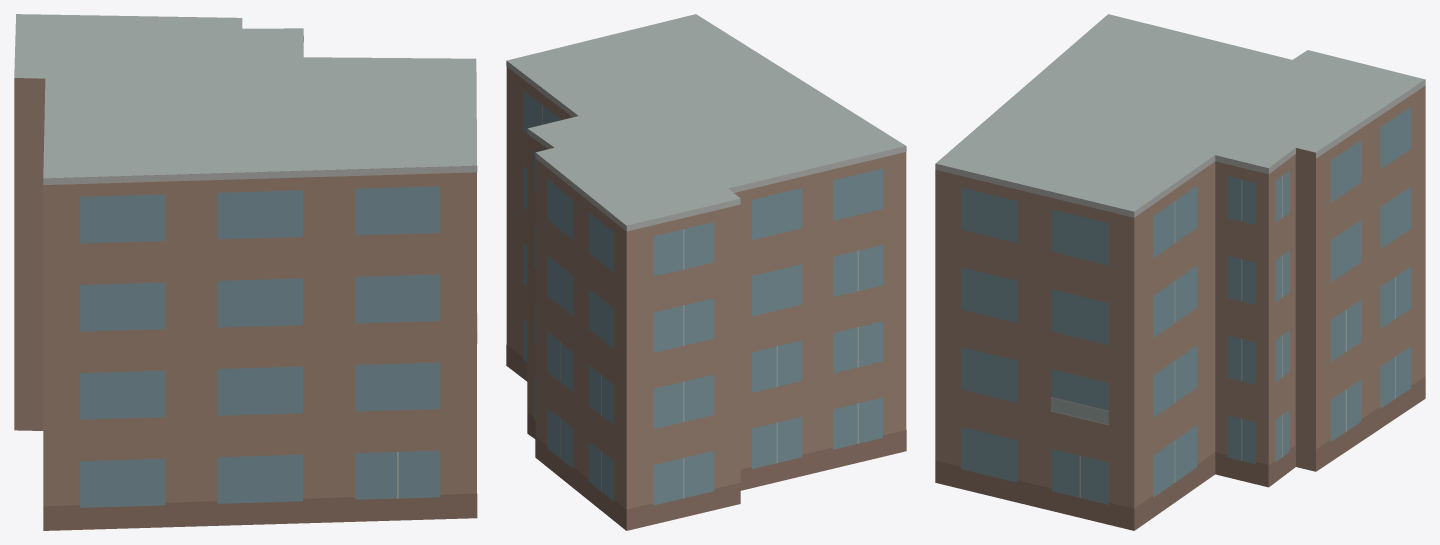
The model's file is survey-upis-32743861.glb.
3 views of the same model, side by side, from view 1: azimuth 30°, elevation 25°; view 2: azimuth 150°, elevation 25°; view 3: azimuth 270°, elevation 25° (orthographic). The views are drawn at different scales.
Visible parts, largest first — view 1: survey-upis-32743861.tmp; view 2: survey-upis-32743861.tmp; view 3: survey-upis-32743861.tmp.
Part boxes in pixels (left/top/right/bottom): survey-upis-32743861.tmp: left=14, top=14, right=477, bottom=530; survey-upis-32743861.tmp: left=506, top=14, right=906, bottom=530; survey-upis-32743861.tmp: left=935, top=14, right=1425, bottom=530.
Size of the model in its own units: 17.02 by 12.8 by 17.82.
